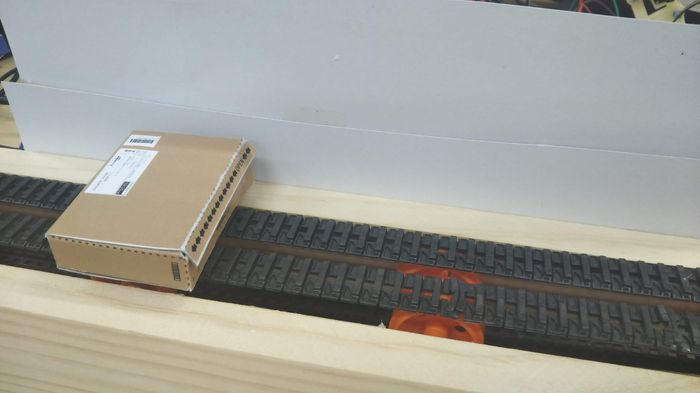box2: (39, 123, 258, 297)
